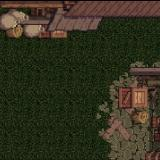Hide: (71, 77, 144, 140)
Obstacle: (0, 0, 160, 61), (95, 60, 160, 160)
